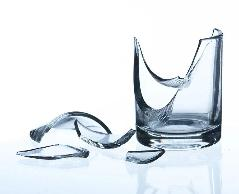glass: (133, 27, 225, 151), (19, 111, 168, 167)
